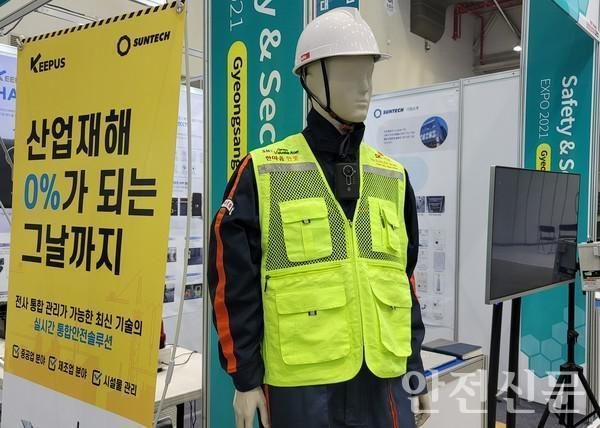helmet: (292, 6, 393, 75)
